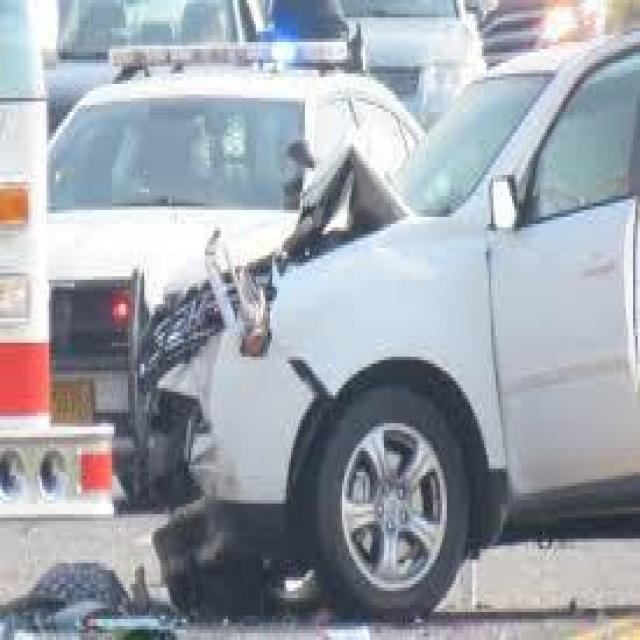damaged: (133, 150, 312, 524), (312, 147, 416, 287)
